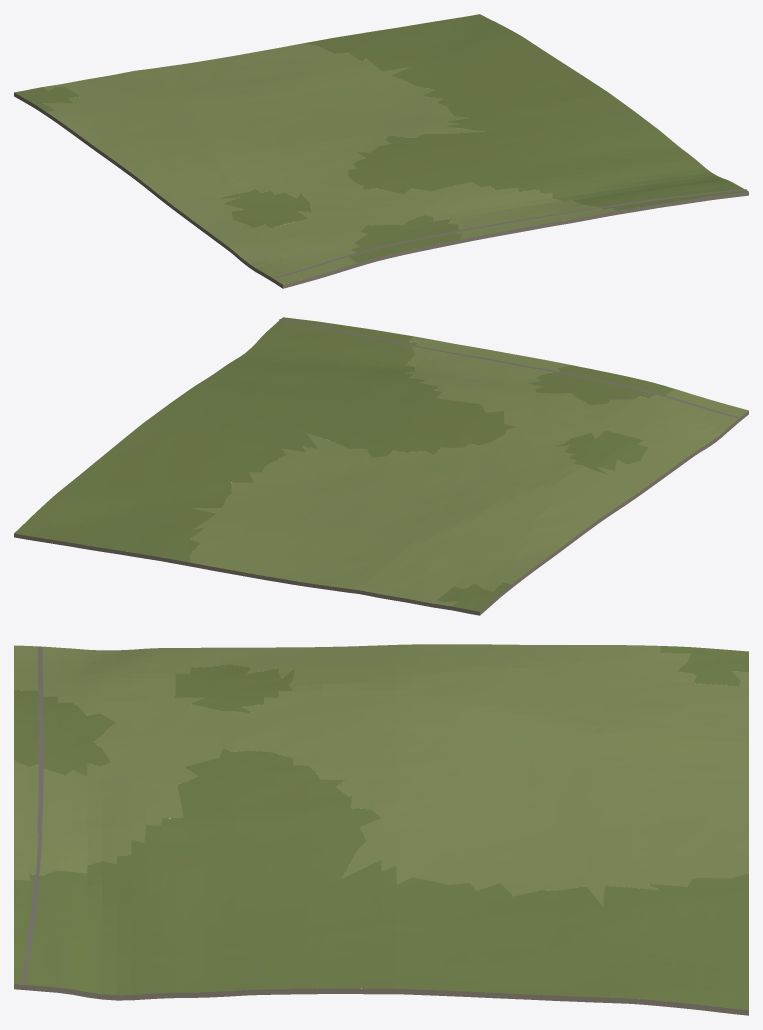
Rendered from parca_+10_-2-uzak.glb.
3 renders of one model, top to bottom at view 1: azimuth 30°, elevation 25°; view 2: azimuth 150°, elevation 25°; view 3: azimuth 270°, elevation 25°, orthographic. The views are drawn at different scales.
Parts seen in each view (by area): view 1: parca_+10_-2_arazi_uzak, parca_+10_-2_yollar_uzak; view 2: parca_+10_-2_arazi_uzak, parca_+10_-2_yollar_uzak; view 3: parca_+10_-2_arazi_uzak, parca_+10_-2_yollar_uzak.
Boxes of the visible parts, x1=… form: parca_+10_-2_arazi_uzak: x1=14, y1=14, x2=748, y2=288; parca_+10_-2_yollar_uzak: x1=274, y1=189, x2=747, y2=278; parca_+10_-2_arazi_uzak: x1=14, y1=317, x2=748, y2=615; parca_+10_-2_yollar_uzak: x1=279, y1=319, x2=738, y2=418; parca_+10_-2_arazi_uzak: x1=14, y1=644, x2=748, y2=1015; parca_+10_-2_yollar_uzak: x1=19, y1=647, x2=43, y2=985.
Bounding box in the file's own units: 1002 × 98.83 × 1000.
